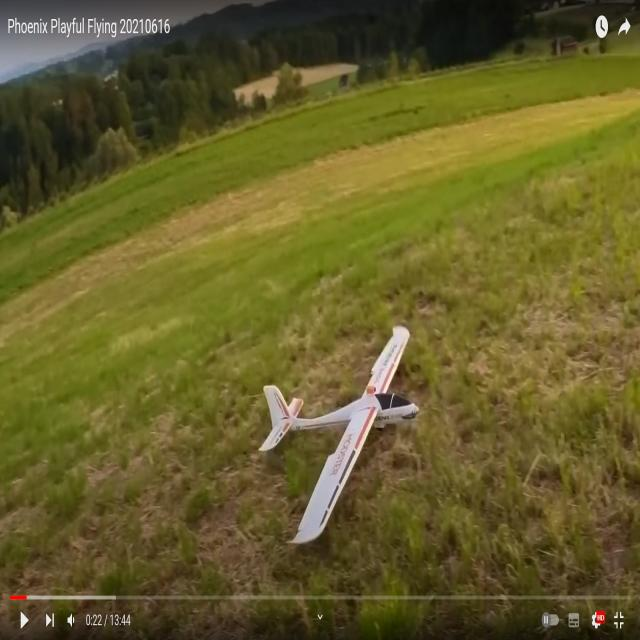iha: (255, 329, 419, 545)
